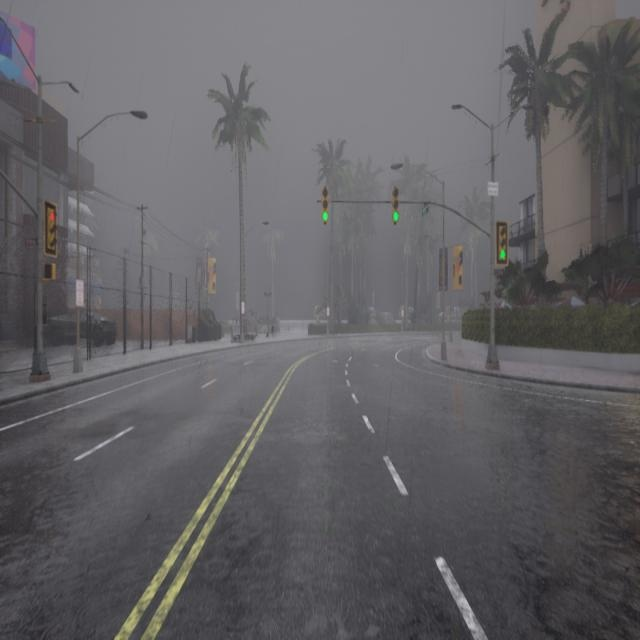bien_chi_dan: (45, 199, 58, 257), (496, 221, 508, 267), (390, 185, 401, 227), (321, 184, 329, 226), (46, 208, 56, 225), (498, 248, 506, 263), (391, 208, 398, 224), (323, 211, 330, 223)
